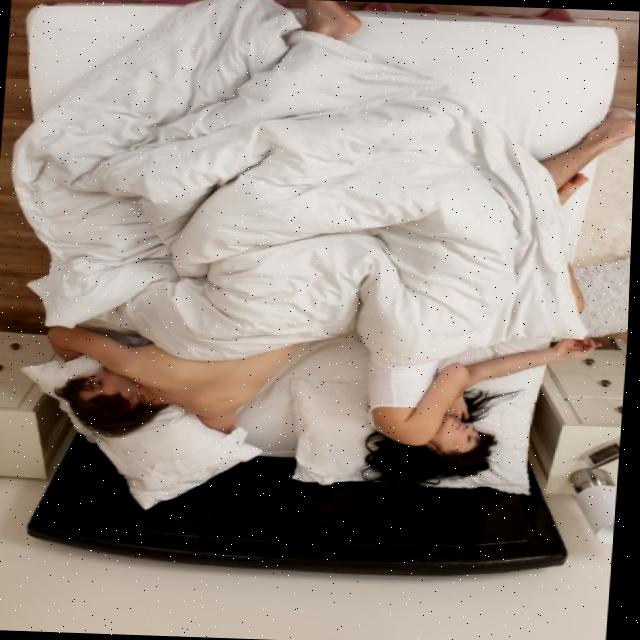sleeping-person: (32, 0, 365, 513), (340, 30, 639, 522)
